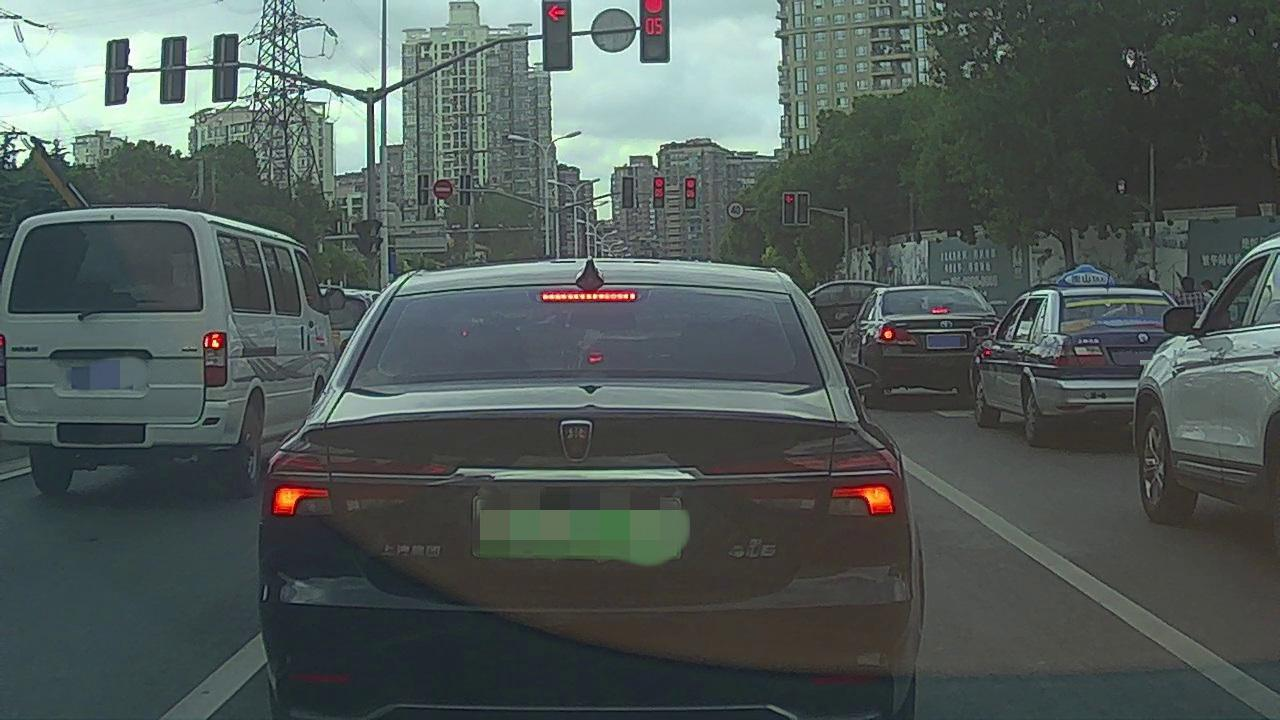traffic_light: (539, 1, 572, 72), (639, 1, 669, 61), (783, 193, 795, 226), (797, 193, 809, 226), (684, 178, 696, 209), (622, 179, 633, 209), (653, 176, 663, 207)
